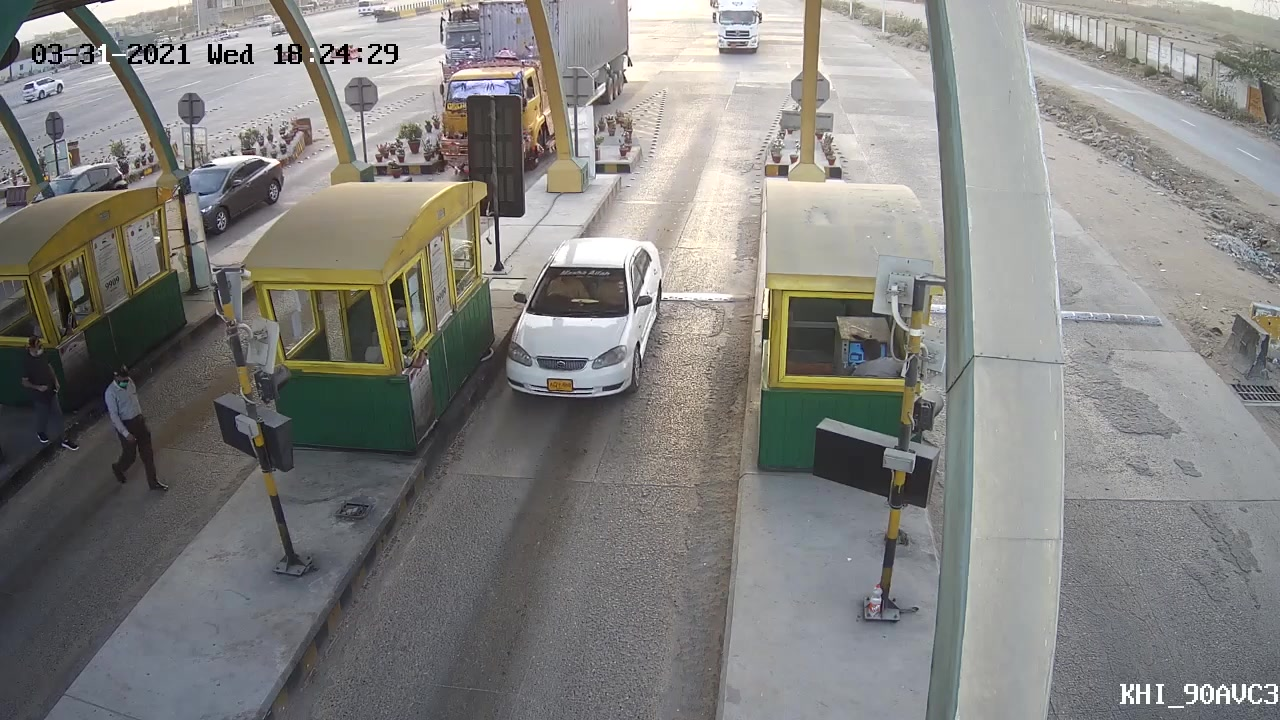F1: (493, 228, 671, 405)
